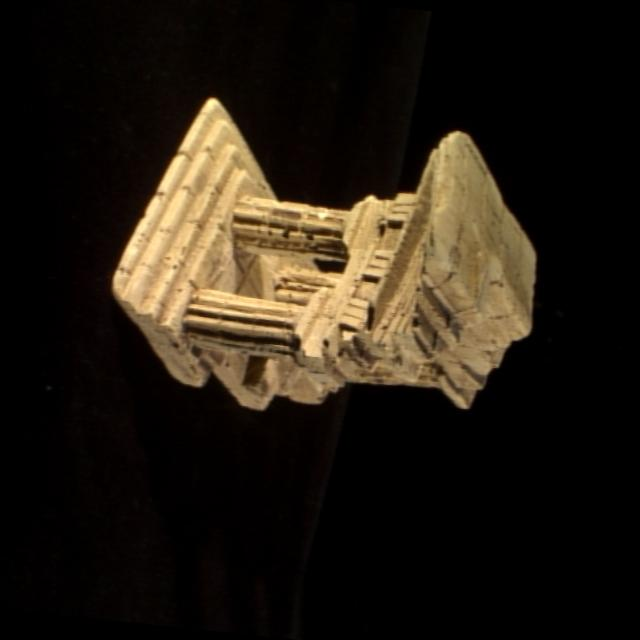Instance-Segmentation: (113, 97, 533, 407)
